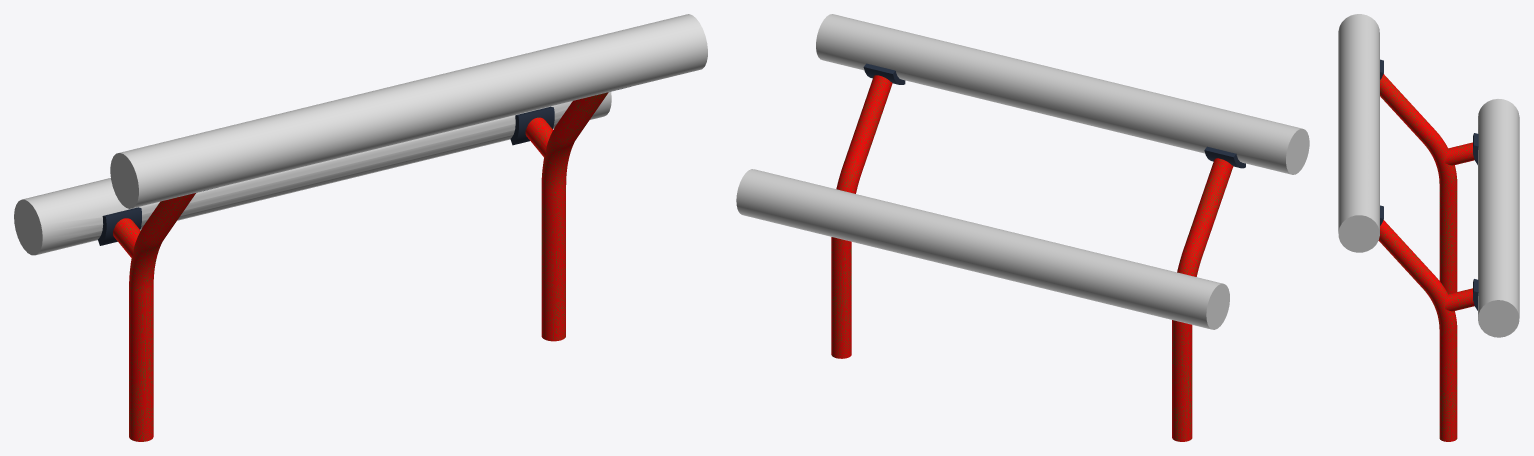
3 views of the same model, side by side, from view 1: azimuth 30°, elevation 25°; view 2: azimuth 150°, elevation 25°; view 3: azimuth 270°, elevation 25° (orthographic). The views are drawn at different scales.
Visible parts, largest first — view 1: mesh9_mesh9-geometry, mesh7_mesh7-geometry, mesh5_mesh5-geometry; view 2: mesh9_mesh9-geometry; view 3: mesh9_mesh9-geometry.
Boxes of the visible parts, x1,y1,x2,y2 form: mesh9_mesh9-geometry: (14,14,707,441); mesh7_mesh7-geometry: (510,106,554,145); mesh5_mesh5-geometry: (98,207,141,245); mesh9_mesh9-geometry: (736,14,1309,441); mesh9_mesh9-geometry: (1338,14,1519,441).
Size of the model in its own units: 0.8213 by 0.4773 by 0.3125.
